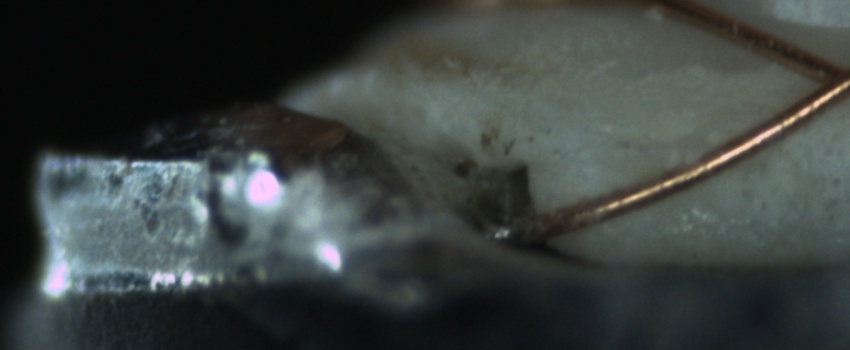CL: (796, 44, 849, 109)
